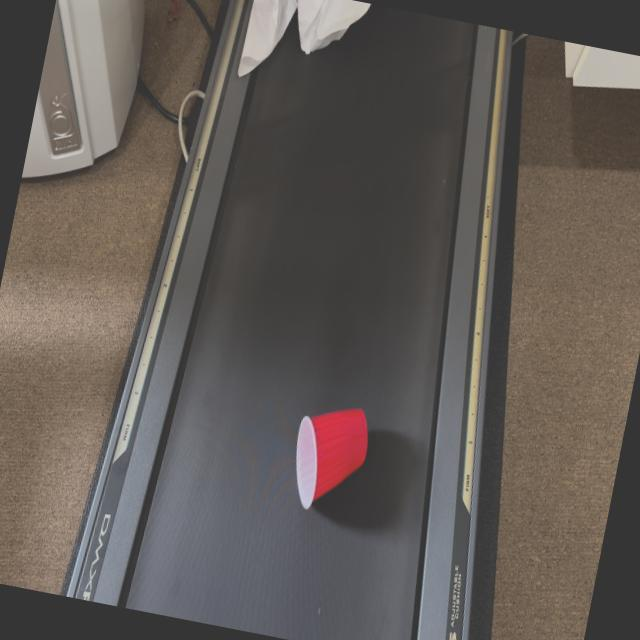Recycle: (232, 0, 373, 104), (282, 393, 378, 522)
